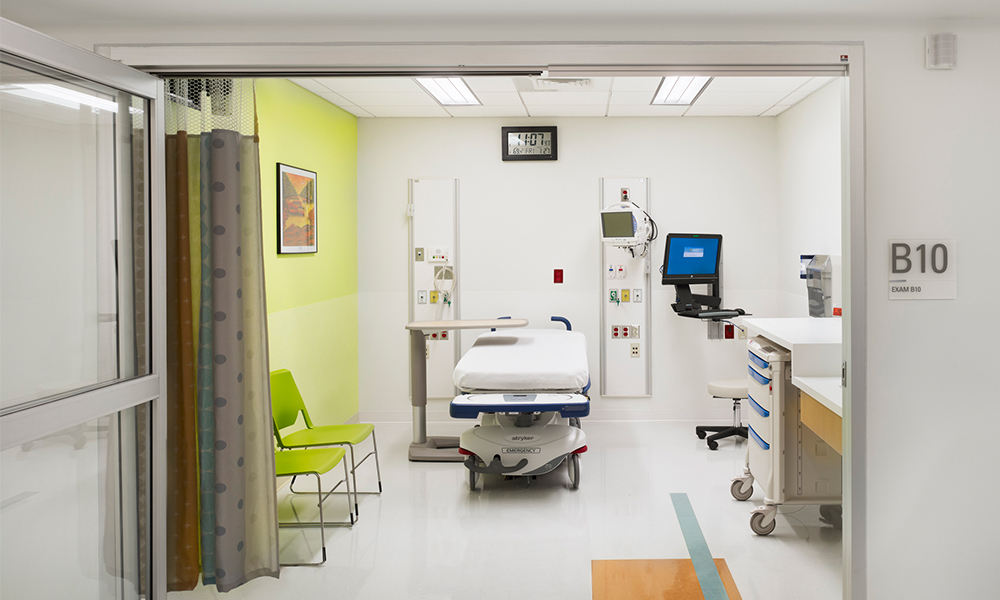bedside_monitor: (597, 208, 640, 248)
chair: (262, 369, 383, 524), (273, 442, 349, 565), (695, 378, 757, 449)
computer: (659, 232, 739, 318)
countertop: (750, 312, 860, 412)
curtain: (167, 101, 282, 594)
foot_board: (449, 391, 593, 418)
hospital_bed: (449, 315, 592, 494)
medical_drawer: (742, 343, 848, 507)
mouse: (734, 307, 746, 315)
overbed_table: (406, 318, 530, 458)
